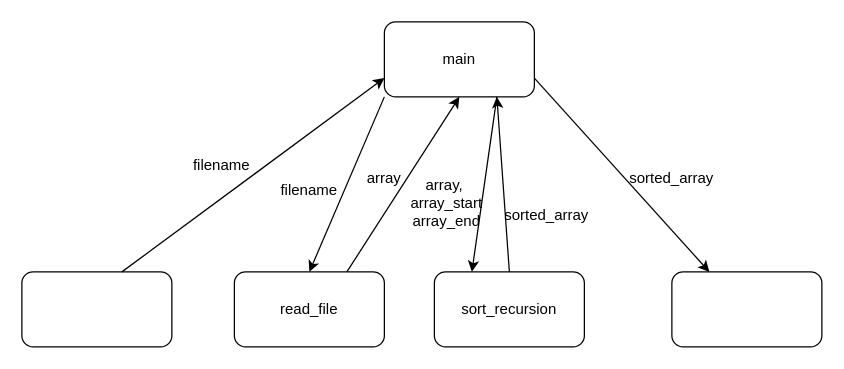
Some shapes in this 844 by 369 pixel diagram are drawn without their labels. The shapes that lost their labels are listed below. From the top down, each one's centre as x and y in pixels, then its label:
At (x=96, y=309): "get_filename".
At (x=746, y=309): "display".
